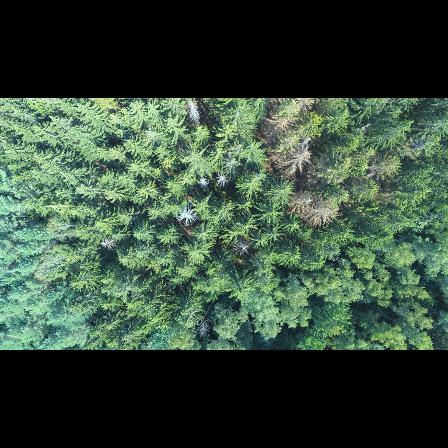Dead: (289, 189, 339, 228), (273, 144, 311, 175), (185, 99, 205, 127), (175, 204, 200, 226), (231, 238, 253, 257), (216, 173, 230, 188), (196, 176, 209, 187)
